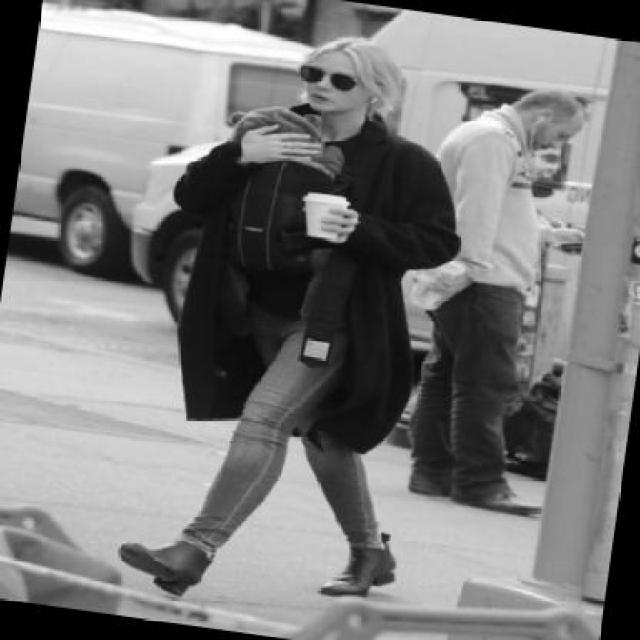earphone: (371, 78, 386, 120)
